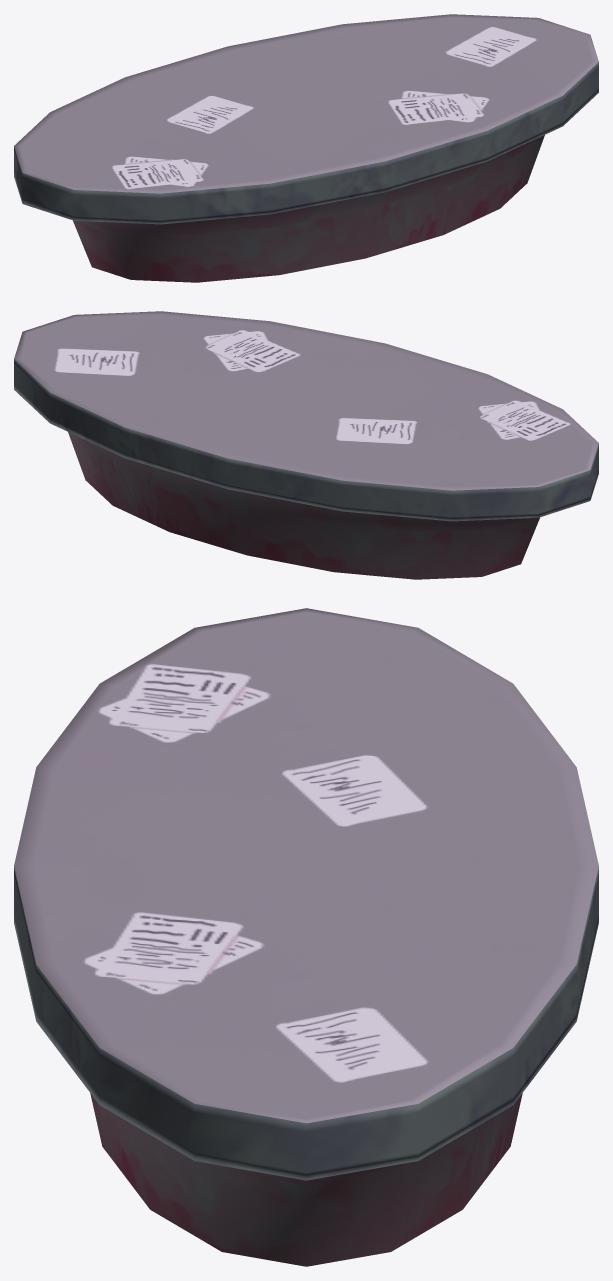
File: MeetingRoom_Table.fbx
3 views of the same model, one above another, from view 1: azimuth 30°, elevation 25°; view 2: azimuth 150°, elevation 25°; view 3: azimuth 270°, elevation 25° (orthographic). The views are drawn at different scales.
Visible parts, largest first — view 1: TableMeetingroom; view 2: TableMeetingroom; view 3: TableMeetingroom.
Part boxes in pixels (x1,y1,x2,y2): TableMeetingroom: (14, 14, 598, 282); TableMeetingroom: (14, 311, 598, 579); TableMeetingroom: (14, 608, 598, 1266).
Bounding box in the file's own units: 281 × 52.53 × 135.
